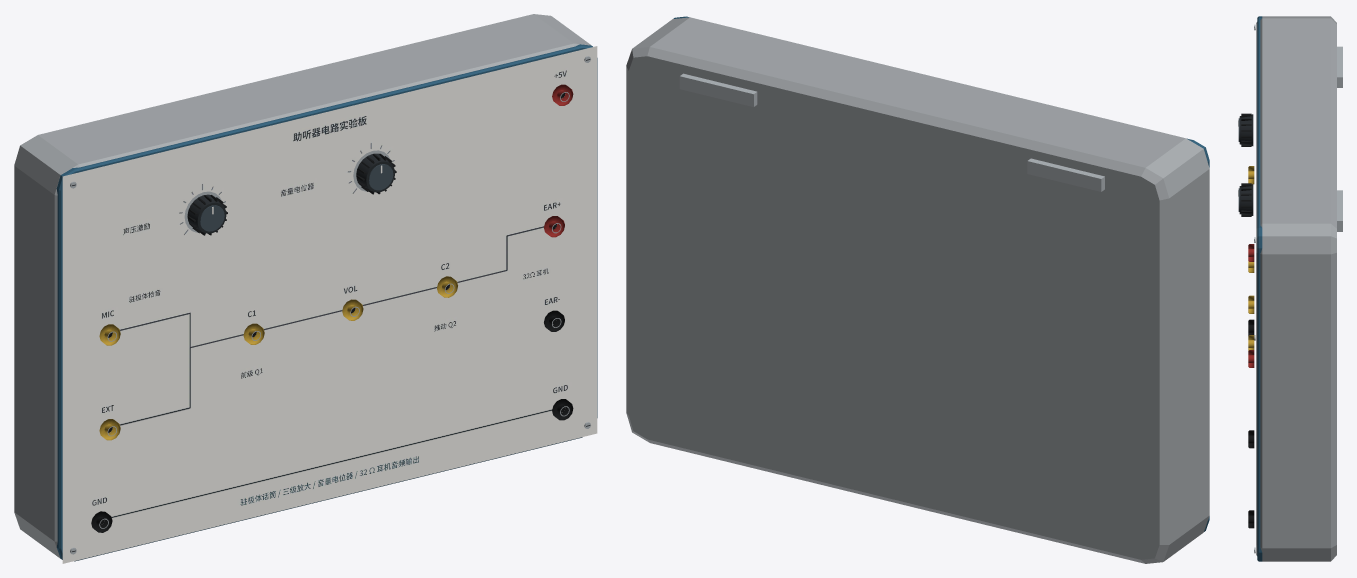
The model's file is module.glb.
3 views of the same model, side by side, from view 1: azimuth 30°, elevation 25°; view 2: azimuth 150°, elevation 25°; view 3: azimuth 270°, elevation 25° (orthographic). The views are drawn at different scales.
Parts seen in each view (by area): view 1: PANEL_silkscreen, STATIC_paint, MOVING_VOL_POT_paint, MOVING_MIC_SPL_paint, STATIC_metal; view 2: STATIC_paint, STATIC_metal; view 3: STATIC_paint, STATIC_metal, MOVING_MIC_SPL_paint, MOVING_VOL_POT_paint.
Part boxes in pixels (x1=…): PANEL_silkscreen: x1=62, y1=46, x2=597, y2=563; STATIC_paint: x1=14, y1=14, x2=597, y2=561; MOVING_VOL_POT_paint: x1=356, y1=153, x2=396, y2=194; MOVING_MIC_SPL_paint: x1=187, y1=194, x2=227, y2=235; STATIC_metal: x1=70, y1=56, x2=590, y2=554; STATIC_paint: x1=626, y1=16, x2=1209, y2=563; STATIC_metal: x1=679, y1=73, x2=1104, y2=191; STATIC_paint: x1=1248, y1=16, x2=1336, y2=561; STATIC_metal: x1=1254, y1=24, x2=1342, y2=553; MOVING_MIC_SPL_paint: x1=1238, y1=113, x2=1253, y2=146; MOVING_VOL_POT_paint: x1=1238, y1=183, x2=1253, y2=216.
Bounding box in the file's own units: 0.264 × 0.184 × 0.0521.
5 materials, 1 textured.
